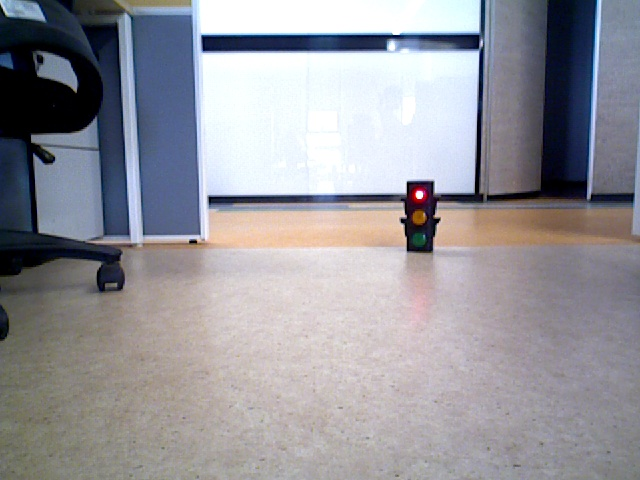red: (406, 183, 432, 249)
